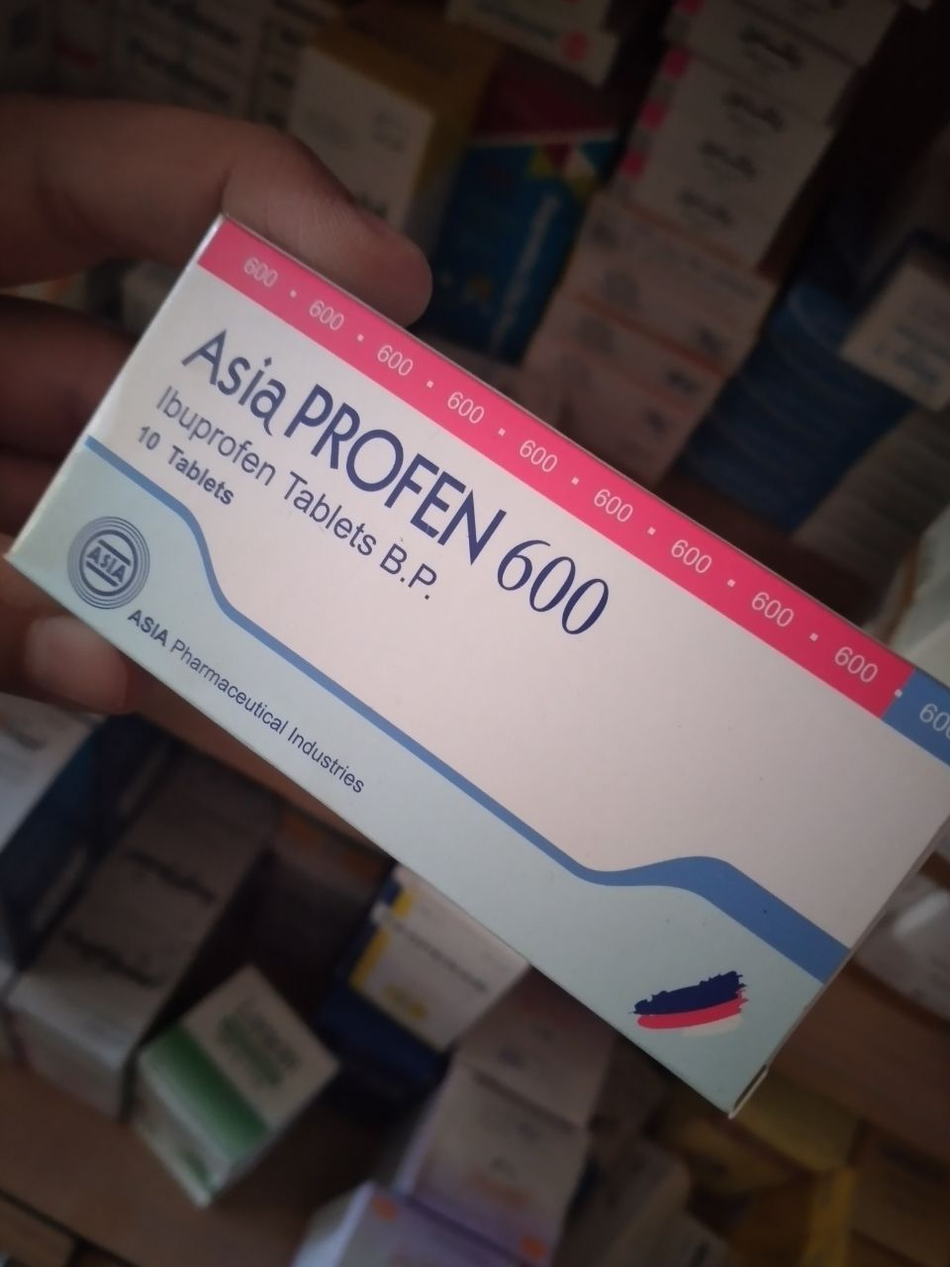Medicine: (13, 214, 950, 1112)
